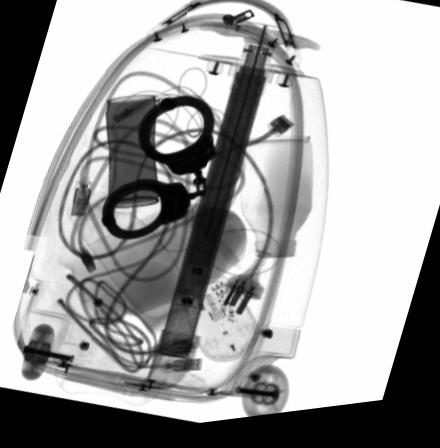HandCuffs: (99, 97, 219, 242)
